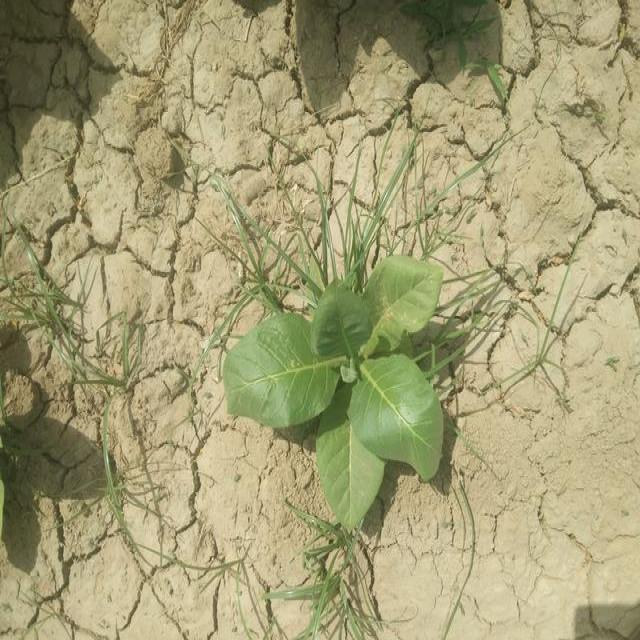crop: (212, 253, 452, 533)
